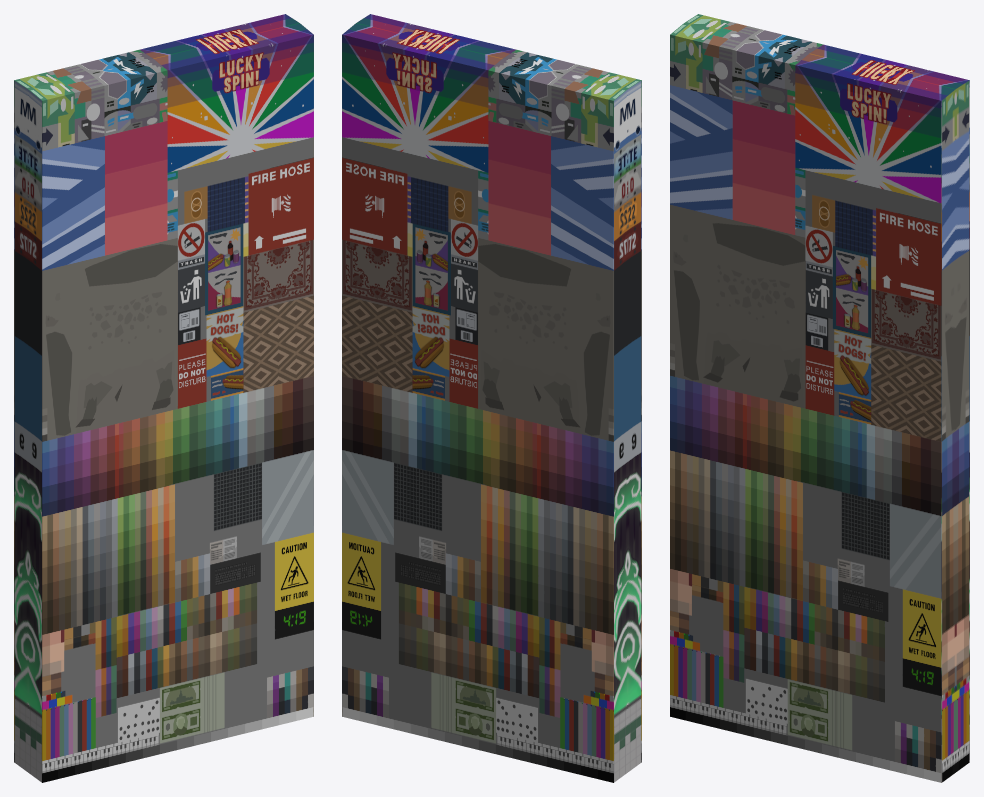
Rendered from SM_Bld_Base_Wall_Half_02.obj.
3 views of the same model, side by side, from view 1: azimuth 30°, elevation 25°; view 2: azimuth 150°, elevation 25°; view 3: azimuth 330°, elevation 25° (orthographic).
Visible parts, largest first — view 1: SM_Bld_Base_Wall_Half_02_1, SM_Bld_Base_Wall_Half_02_0; view 2: SM_Bld_Base_Wall_Half_02_0, SM_Bld_Base_Wall_Half_02_1; view 3: SM_Bld_Base_Wall_Half_02_1, SM_Bld_Base_Wall_Half_02_0.
Boxes of the visible parts, <box> form: SM_Bld_Base_Wall_Half_02_1: <box>28,23,313,782</box>; SM_Bld_Base_Wall_Half_02_0: <box>14,14,298,772</box>; SM_Bld_Base_Wall_Half_02_0: <box>342,23,627,782</box>; SM_Bld_Base_Wall_Half_02_1: <box>357,14,641,772</box>; SM_Bld_Base_Wall_Half_02_1: <box>670,23,955,782</box>; SM_Bld_Base_Wall_Half_02_0: <box>685,14,969,772</box>.
Bounding box in the file's own units: 1.25 × 3.01 × 0.225.
2 materials, 2 textured.
